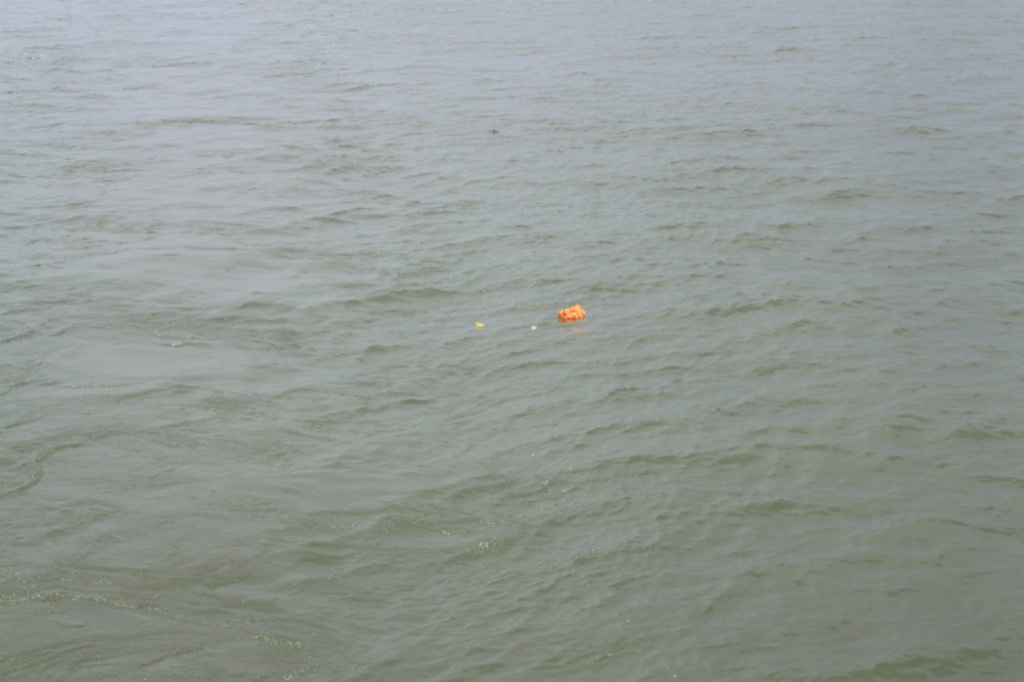plastic: (551, 300, 598, 336), (464, 311, 494, 341), (519, 315, 543, 340)
